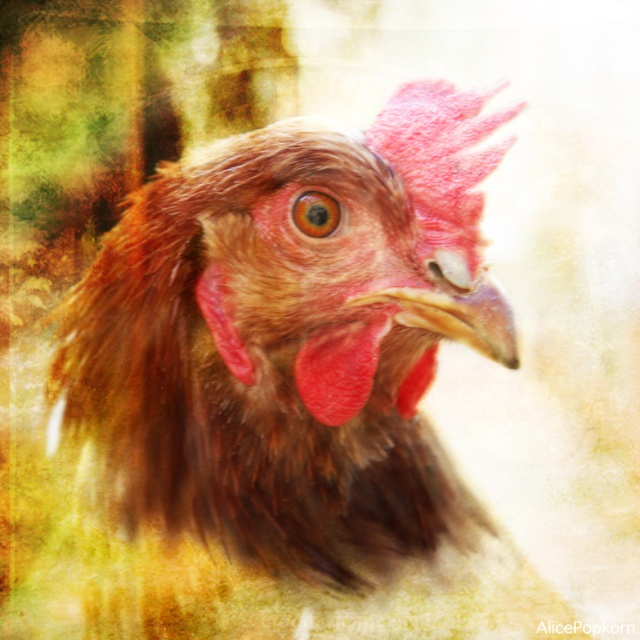Chicken: (0, 76, 599, 640)
